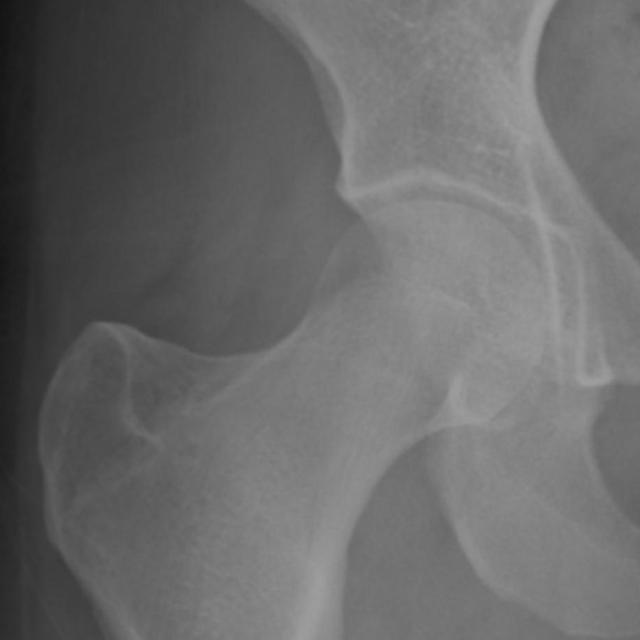Fitted_femural_head: (234, 202, 432, 234)
